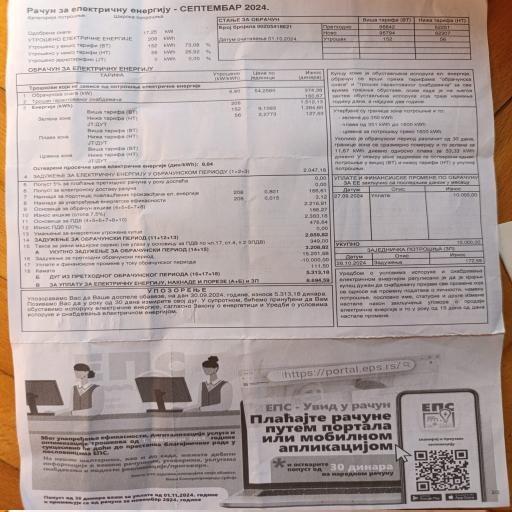racun_za_struju: (14, 62, 328, 180)
